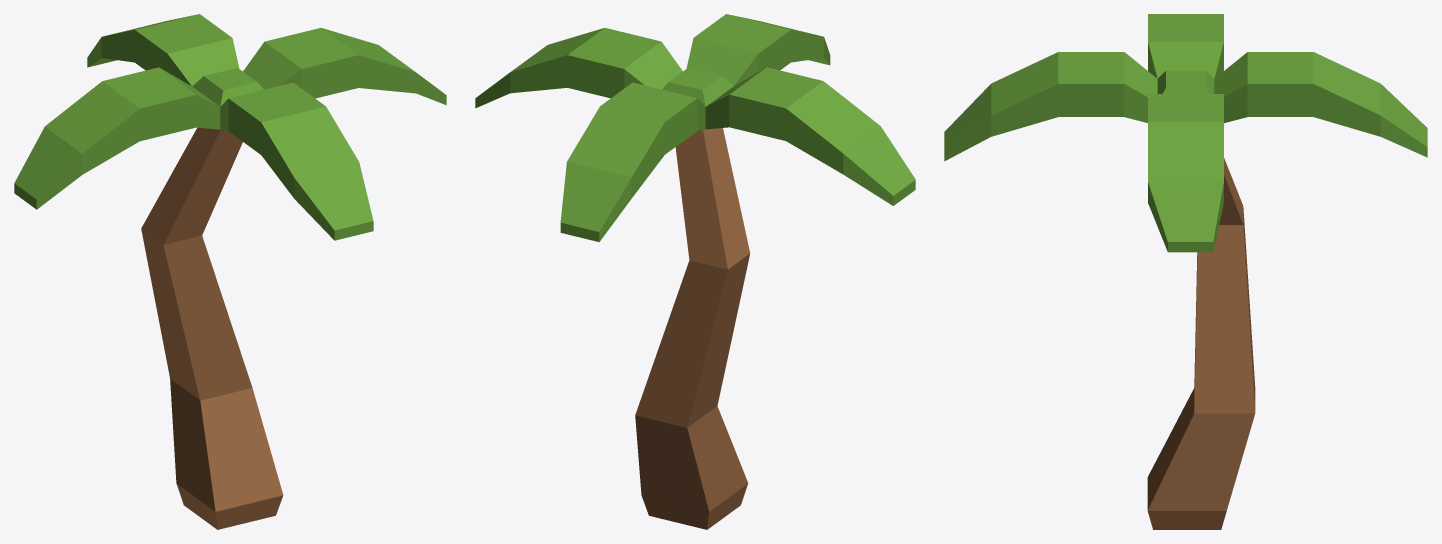
The model's file is tree_palmShort.glb.
3 renders of one model, left to right at view 1: azimuth 30°, elevation 25°; view 2: azimuth 150°, elevation 25°; view 3: azimuth 270°, elevation 25°, orthographic.
Parts seen in each view (by area): view 1: tree_palmShort; view 2: tree_palmShort; view 3: tree_palmShort.
Part boxes in pixels (x1,y1,x2,y2): tree_palmShort: (14,14,446,529); tree_palmShort: (475,14,915,529); tree_palmShort: (944,14,1427,529).
Bounding box in the file's own units: 1.03 × 1.06 × 1.03.
